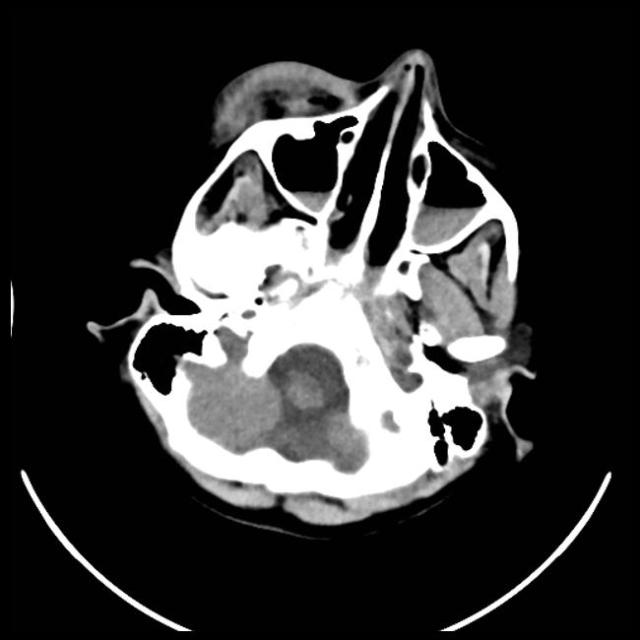lesion: (89, 46, 542, 531)
